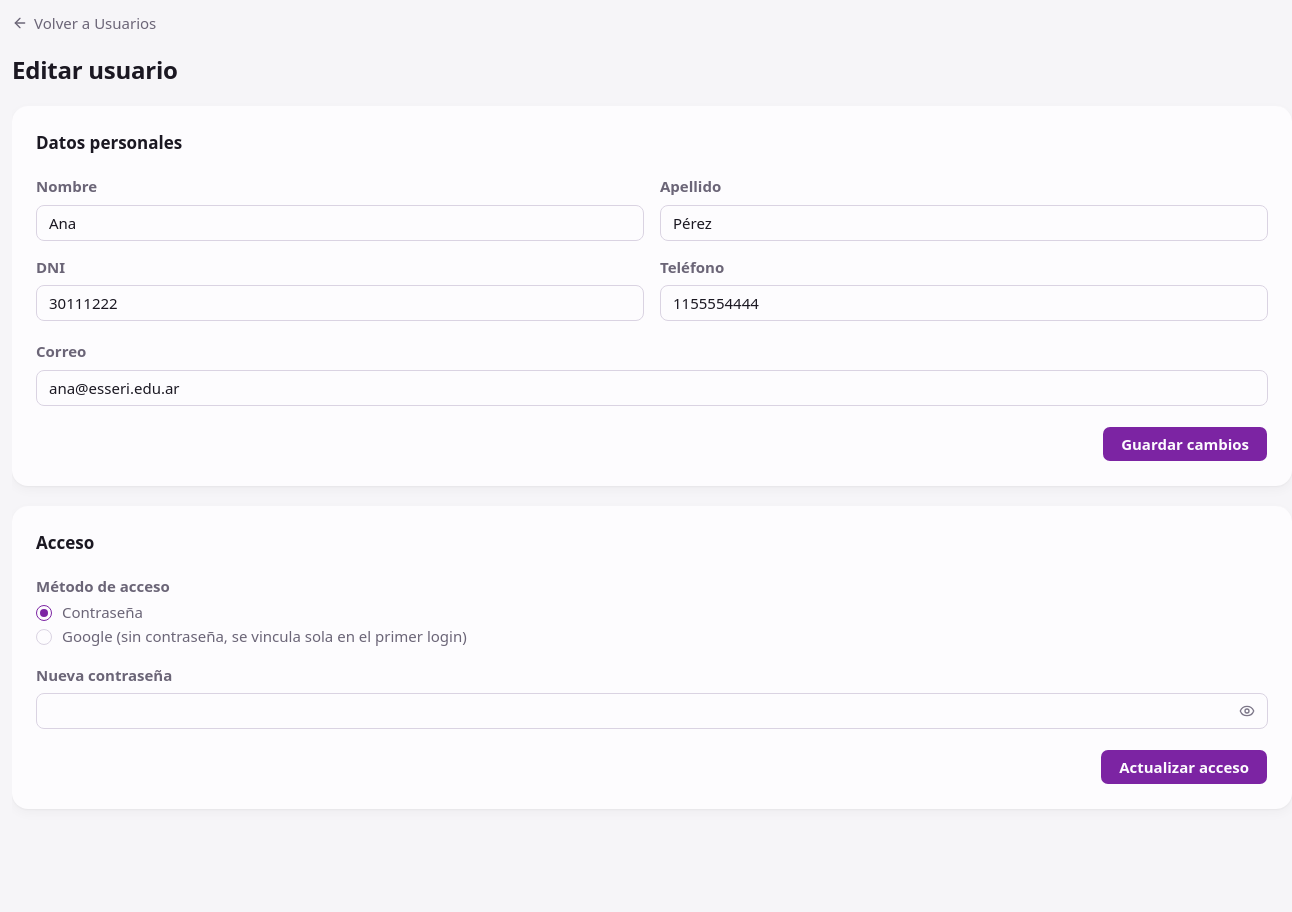
Test: UsuarioEdicionPage › muestra el error de la API si falla el guardado de datos
Expected: the field showing "Ana" is shown, [36,205,644,241]
Click the button "Guardar cambios".
click(1185, 444)  # box [1102,426,1268,462]
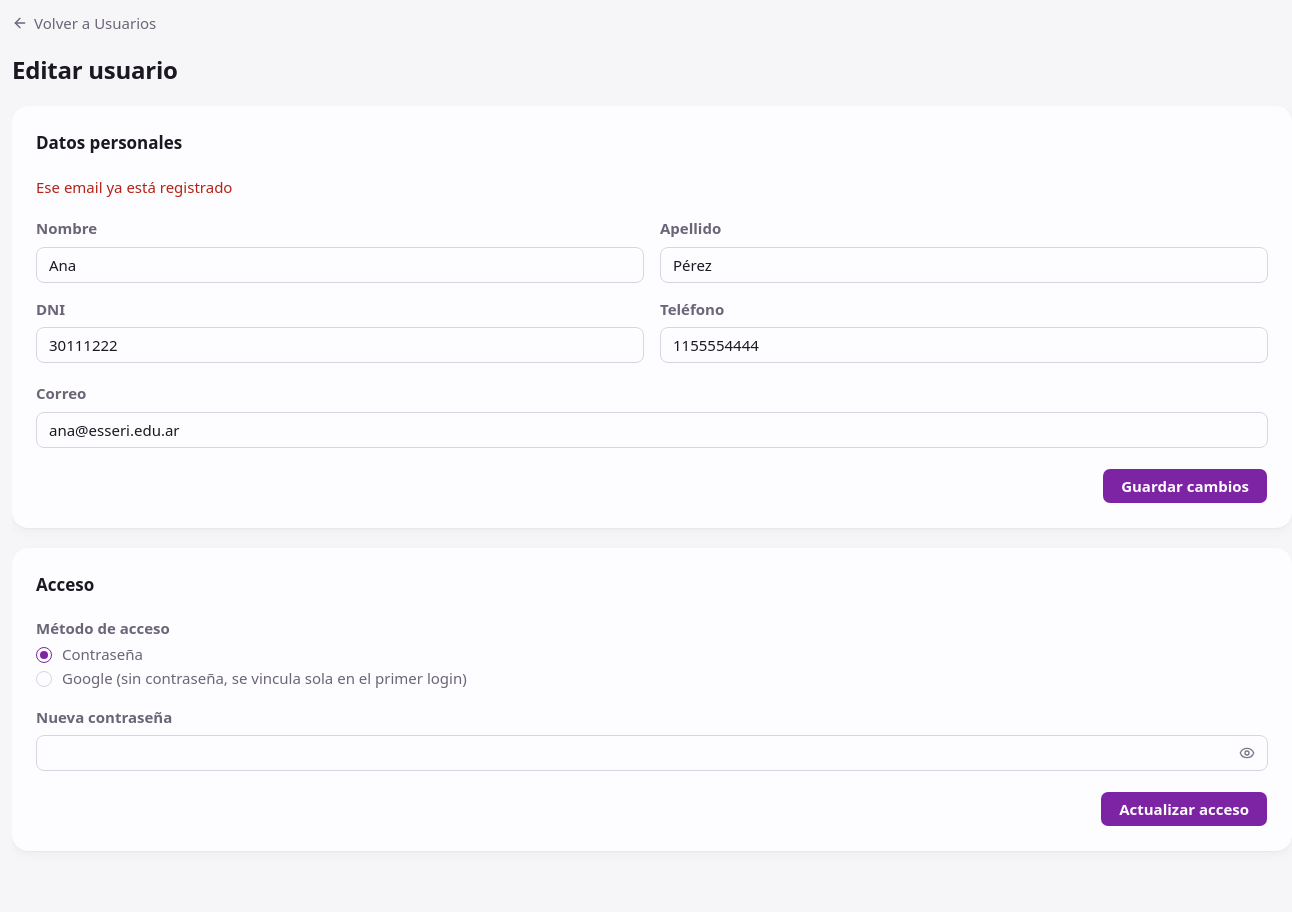
Now the text "Ese email ya está registrado" is shown, box [36,177,232,197]
